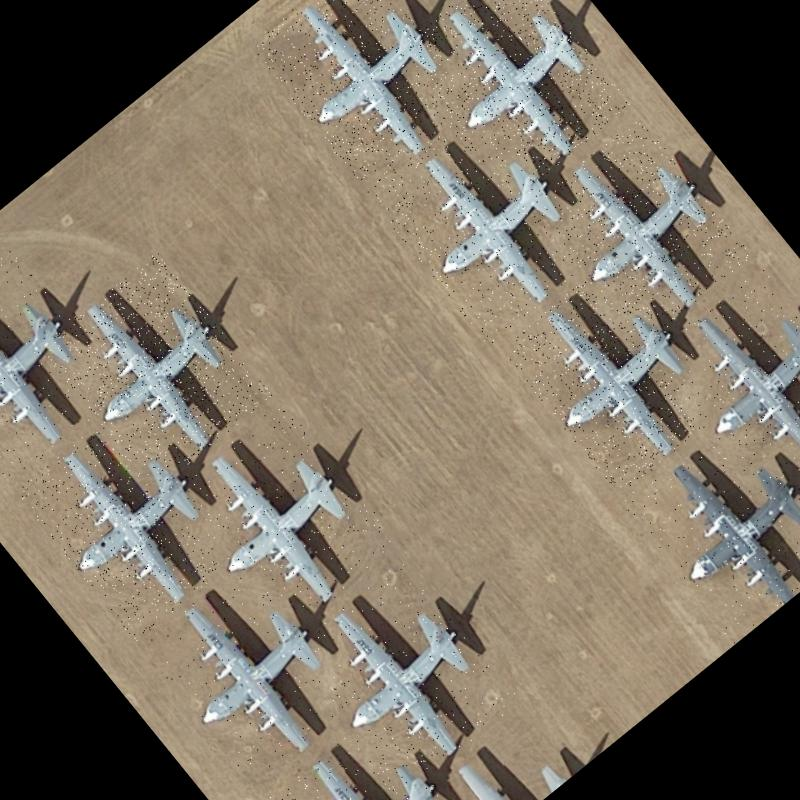A2: (164, 398, 403, 643), (14, 400, 249, 642), (38, 251, 274, 490), (368, 105, 602, 345), (500, 256, 732, 496), (291, 557, 520, 792), (140, 558, 364, 788), (530, 115, 752, 343), (247, 0, 484, 197), (397, 0, 631, 196), (619, 406, 800, 643), (649, 264, 800, 499), (0, 239, 126, 486), (258, 711, 483, 800)
